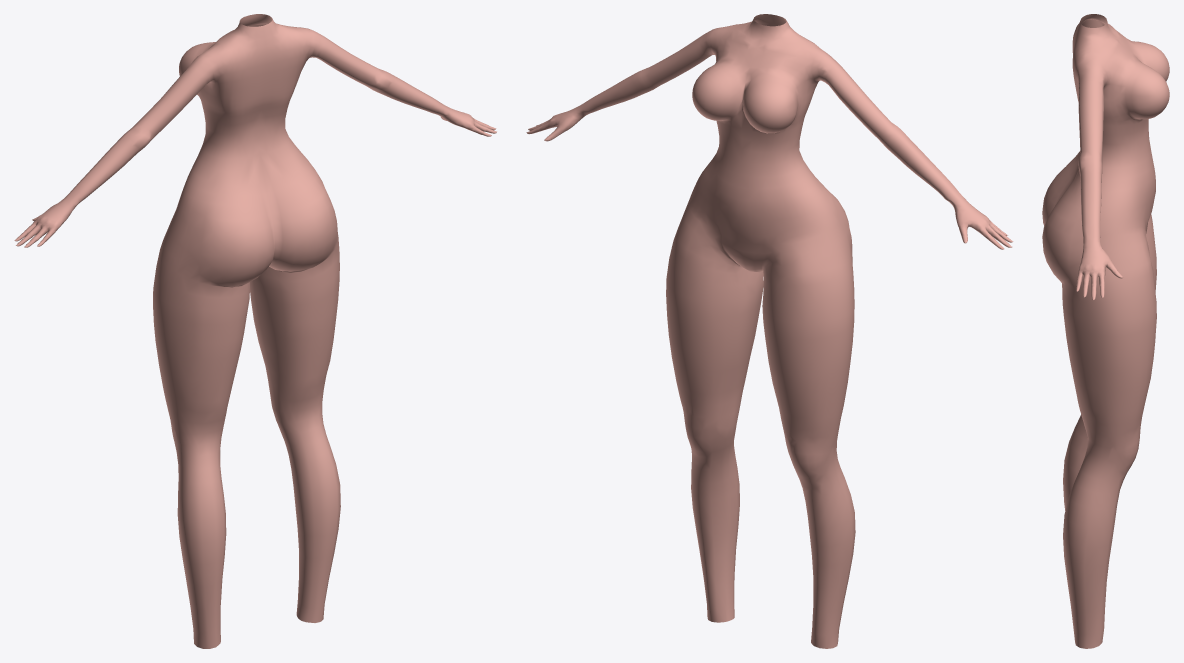
File: HoyoBase5.fbx
3 renders of one model, left to right at view 1: azimuth 30°, elevation 25°; view 2: azimuth 150°, elevation 25°; view 3: azimuth 270°, elevation 25°, orthographic. The views are drawn at different scales.
Parts seen in each view (by area): view 1: Yvonne_mesh; view 2: Yvonne_mesh; view 3: Yvonne_mesh.
Part boxes in pixels (<box>): Yvonne_mesh: <box>14,14,496,648</box>; Yvonne_mesh: <box>526,14,1013,648</box>; Yvonne_mesh: <box>1042,14,1169,648</box>.
Bounding box in the file's own units: 1.18 × 1.42 × 0.2746.
